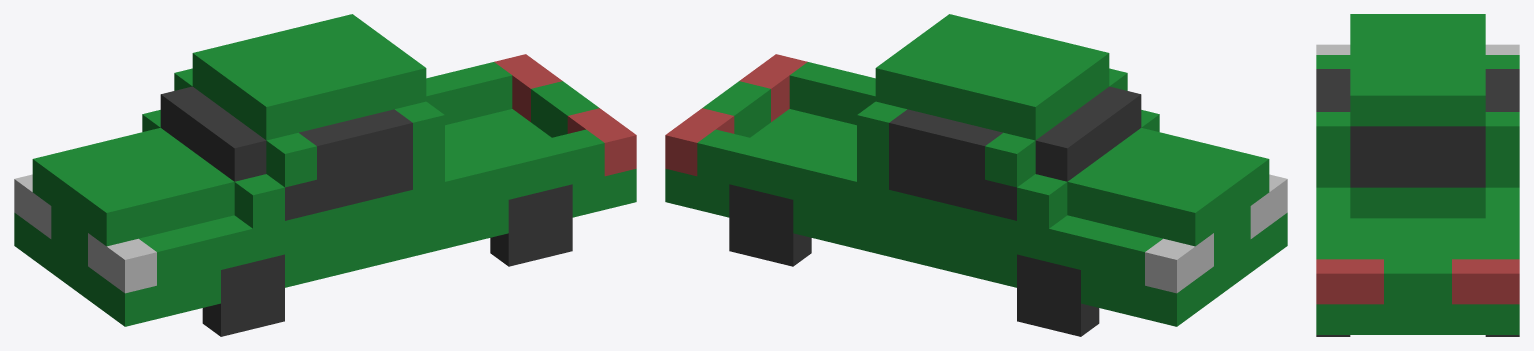
File: car-v5-green.gltf
3 renders of one model, left to right at view 1: azimuth 30°, elevation 25°; view 2: azimuth 150°, elevation 25°; view 3: azimuth 270°, elevation 25°, orthographic. The views are drawn at different scales.
Parts seen in each view (by area): view 1: model, wheels; view 2: model, wheels; view 3: model.
Part boxes in pixels (left/top/right/bottom): model: left=14, top=14, right=636, bottom=326; wheels: left=202, top=184, right=572, bottom=336; model: left=665, top=14, right=1287, bottom=326; wheels: left=729, top=184, right=1099, bottom=336; model: left=1316, top=14, right=1519, bottom=334.
Bounding box in the file's own units: 1.6 × 0.6 × 0.6.
2 materials, 2 textured.
